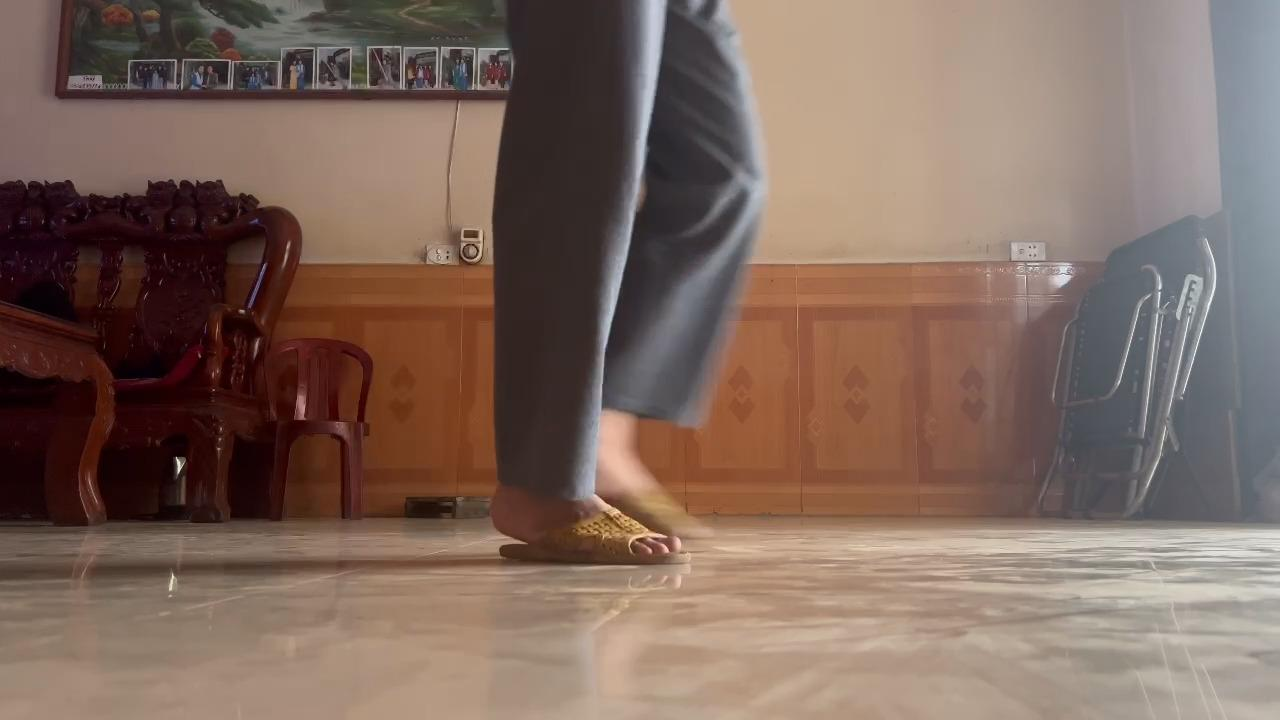no-boot: (480, 483, 718, 573)
